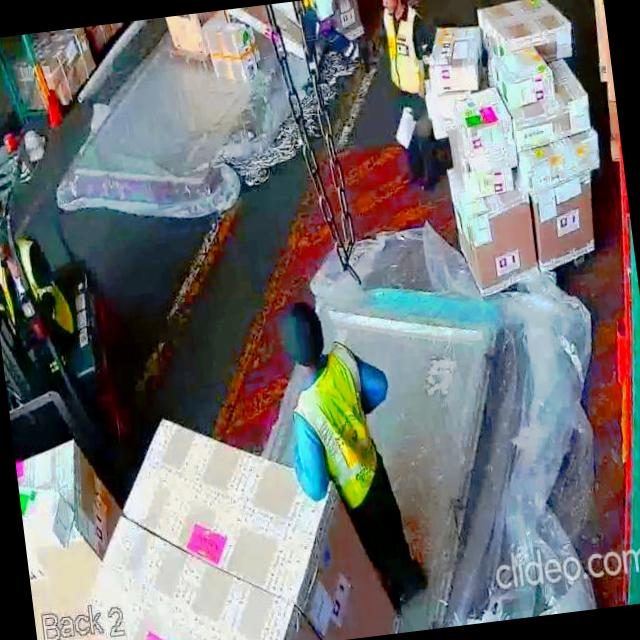Box: (127, 400, 346, 603), (76, 537, 306, 640), (450, 190, 540, 283), (528, 182, 598, 268), (477, 0, 571, 58), (200, 17, 264, 89), (450, 89, 516, 154), (422, 18, 479, 92), (522, 100, 596, 144), (526, 139, 602, 181), (497, 48, 548, 98)
